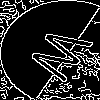W: (25, 25, 100, 88)
